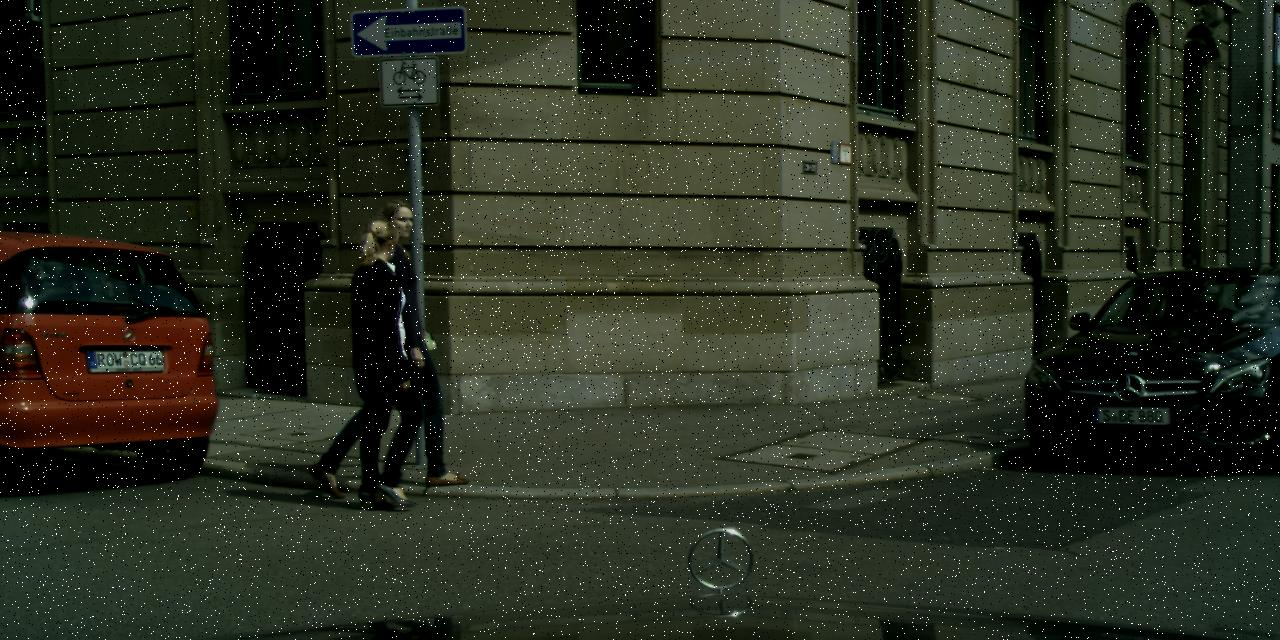ped: (332, 200, 451, 490), (321, 218, 439, 506)
